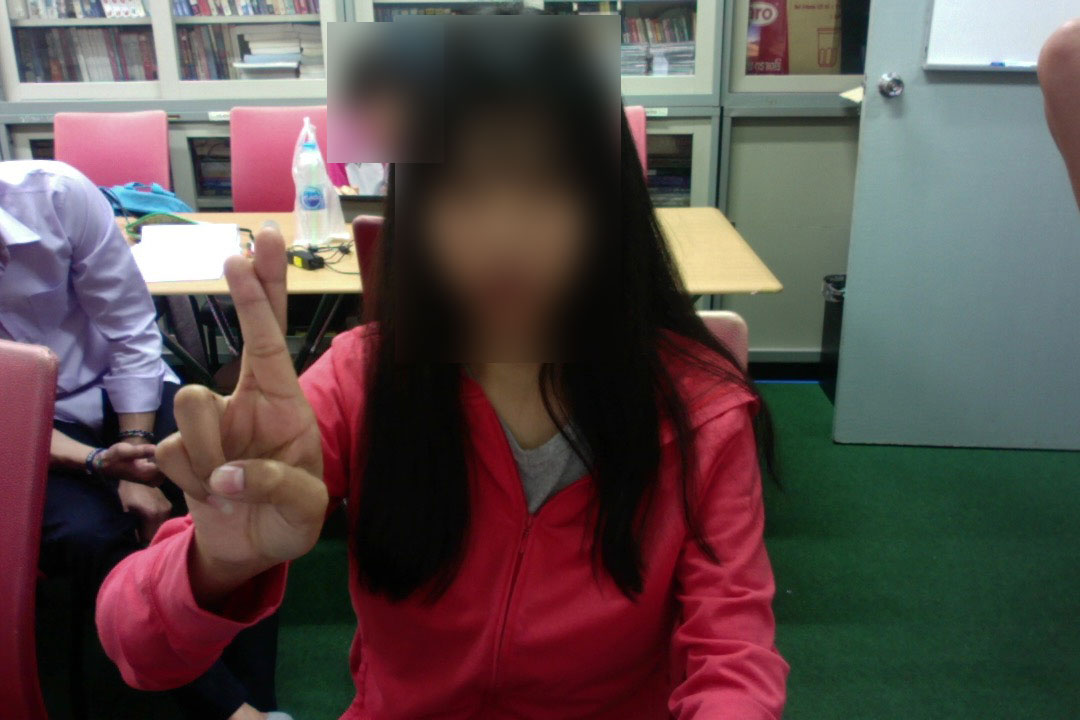rao: (142, 223, 332, 588)
